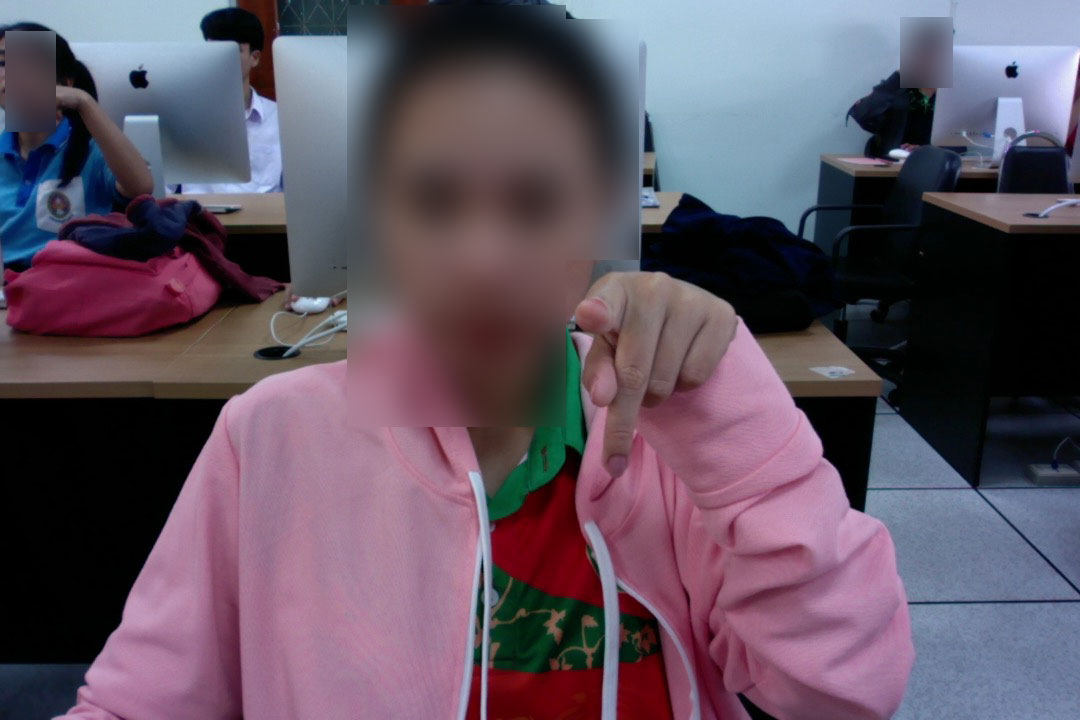por: (571, 259, 739, 479)
